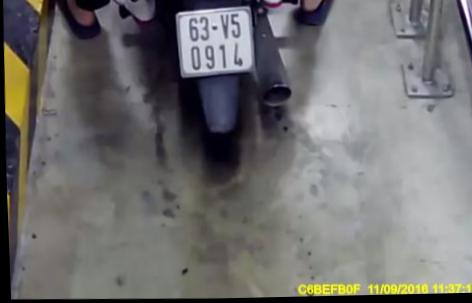LP: (172, 4, 257, 81)
